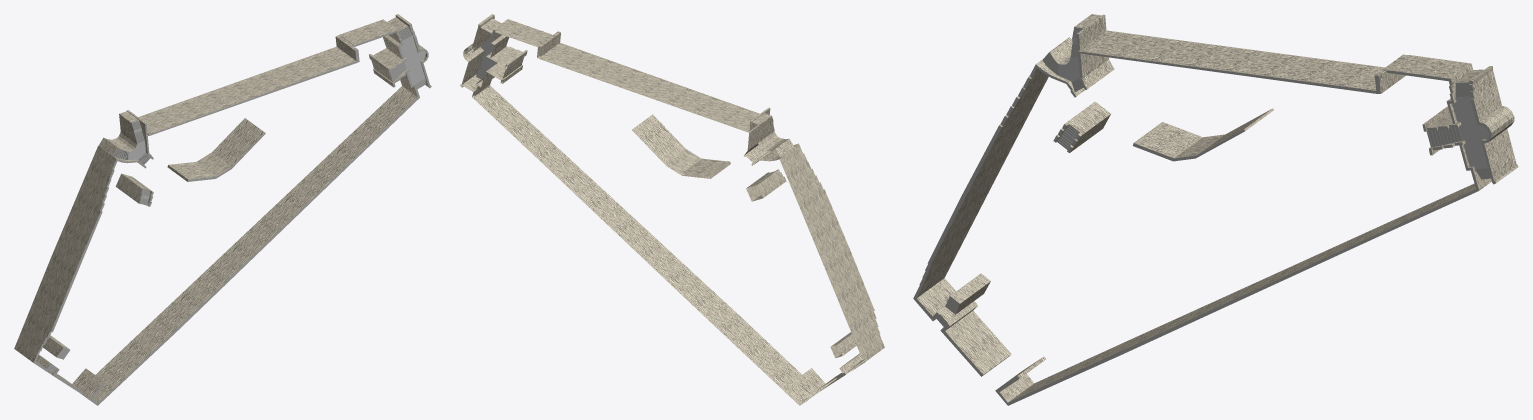
The model's file is Viru_magi_myyr.obj.
3 renders of one model, left to right at view 1: azimuth 30°, elevation 25°; view 2: azimuth 150°, elevation 25°; view 3: azimuth 330°, elevation 25°, orthographic. The views are drawn at different scales.
Parts seen in each view (by area): view 1: Viru_magi_myyr; view 2: Viru_magi_myyr; view 3: Viru_magi_myyr.
Boxes of the visible parts, x1,y1,x2,y2 form: Viru_magi_myyr: [14, 14, 431, 405]; Viru_magi_myyr: [460, 14, 884, 405]; Viru_magi_myyr: [913, 14, 1518, 405].
Bounding box in the file's own units: 124 × 88.36 × 12.44.
